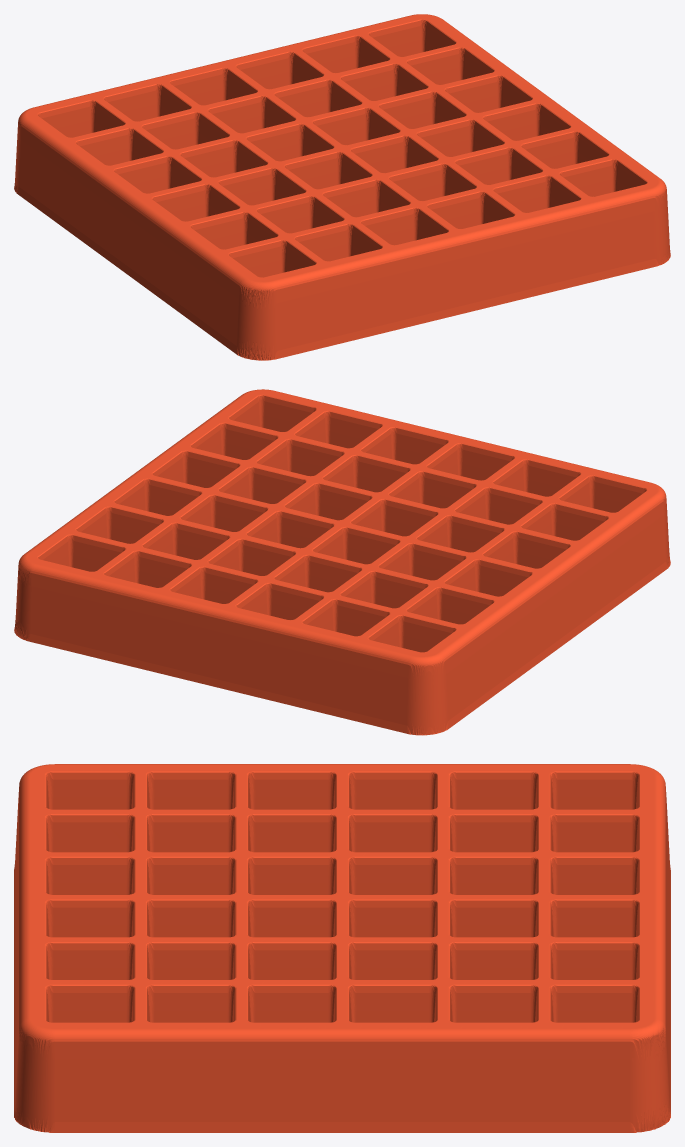
The model's file is mold.glb.
3 views of the same model, one above another, from view 1: azimuth 30°, elevation 25°; view 2: azimuth 150°, elevation 25°; view 3: azimuth 270°, elevation 25° (orthographic). The views are drawn at different scales.
Parts seen in each view (by area): view 1: geometry_0; view 2: geometry_0; view 3: geometry_0.
Part boxes in pixels (bbox=[...]): geometry_0: bbox=[14, 14, 670, 360]; geometry_0: bbox=[14, 389, 670, 735]; geometry_0: bbox=[14, 764, 670, 1132].
Size of the model in its own units: 0.1447 by 0.0236 by 0.1447.
